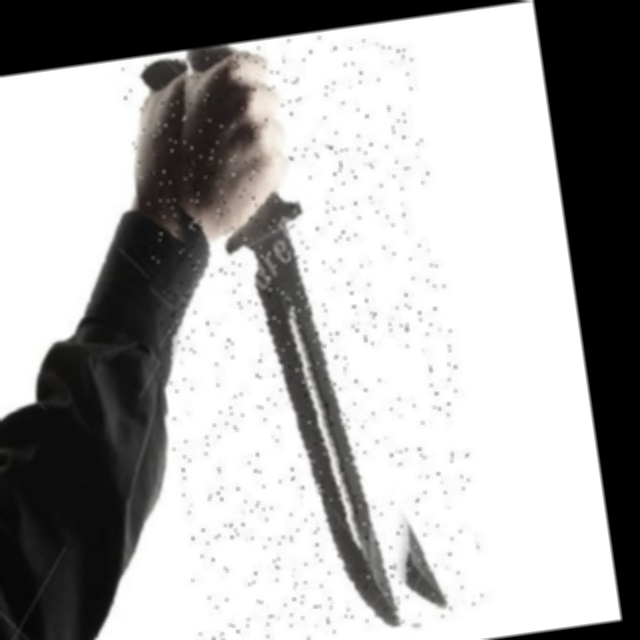Sharp-Object: (117, 18, 491, 640)
